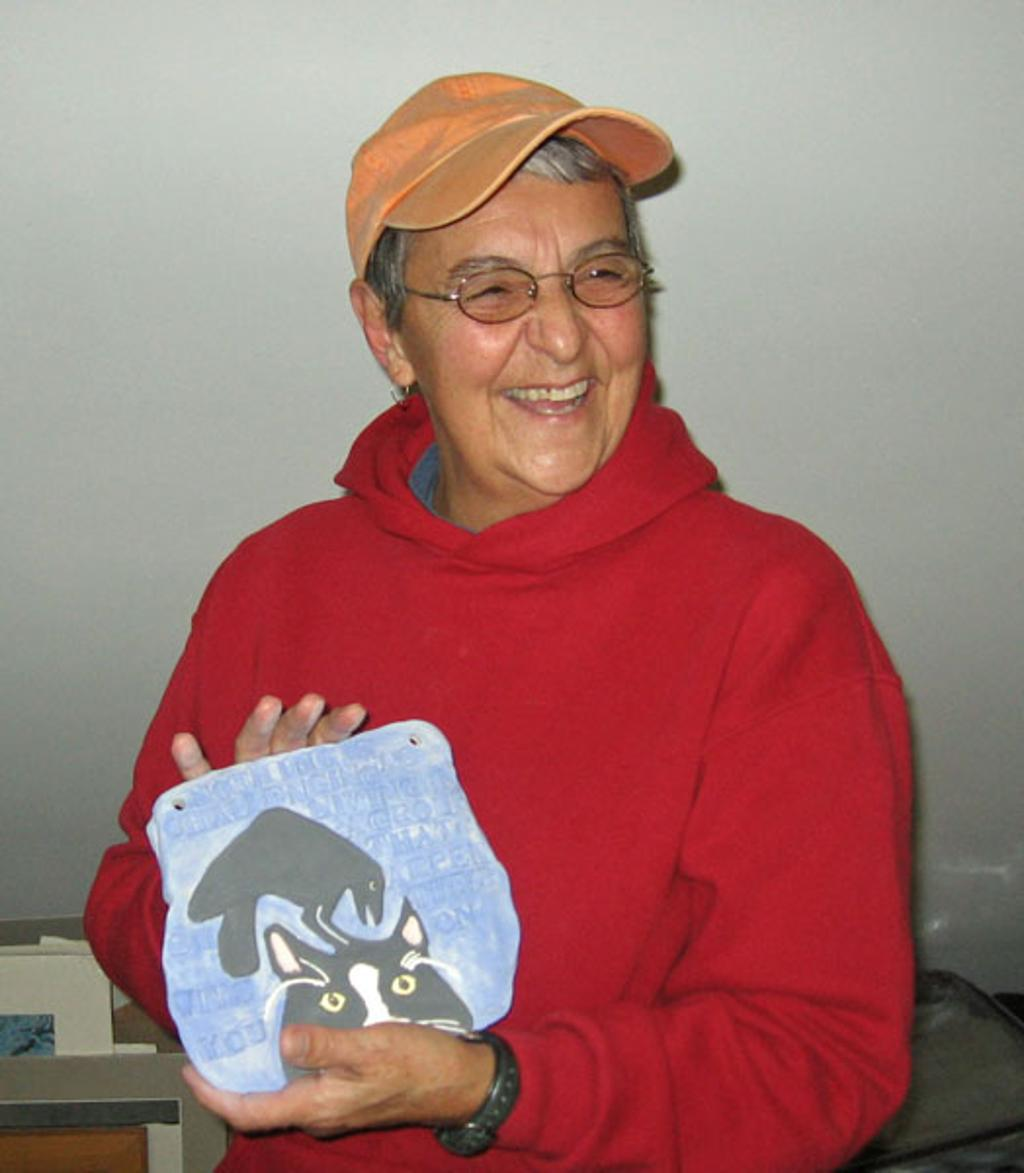face: (411, 171, 645, 496)
